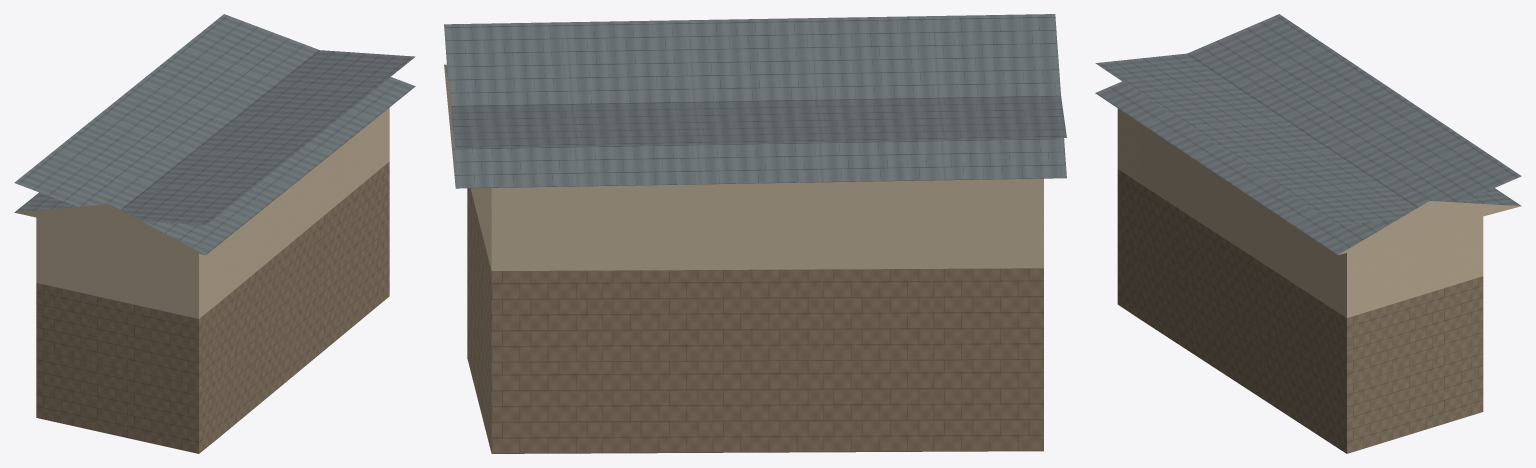
File: bld_c21_46_399.gltf
The picture shows the model from 3 angles, left to right: view 1: azimuth 30°, elevation 25°; view 2: azimuth 150°, elevation 25°; view 3: azimuth 270°, elevation 25°; orthographic projection. The views are drawn at different scales.
Parts seen in each view (by area): view 1: bld_c21_46_399; view 2: bld_c21_46_399; view 3: bld_c21_46_399.
Part boxes in pixels (bbox=[...]): bld_c21_46_399: bbox=[14, 14, 415, 453]; bld_c21_46_399: bbox=[444, 14, 1066, 453]; bld_c21_46_399: bbox=[1095, 14, 1521, 453].
Bounding box in the file's own units: 15.17 × 8 × 12.94.
4 materials, 4 textured.
